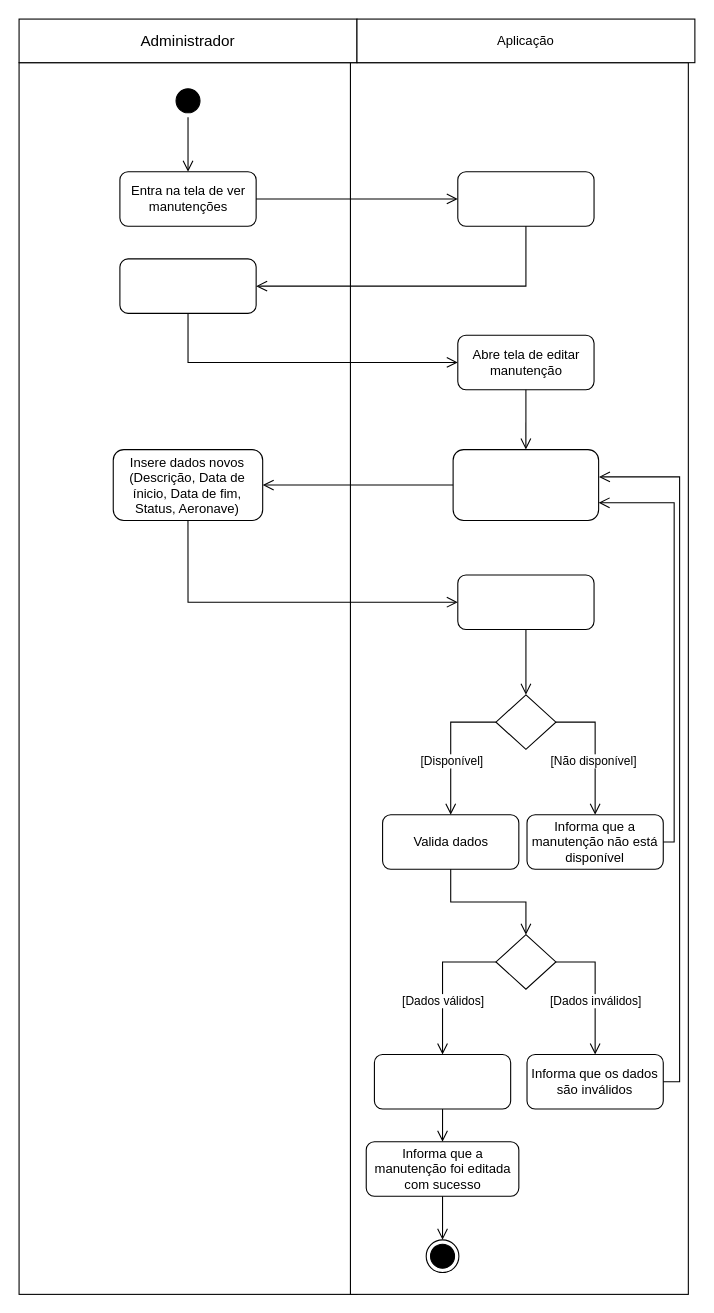
This 714x1313 diagram has some shape labels left out. The shapes that lost their labels are listed below. From the top down, each one's centre as x and y in pixels, then its label:
At (x=525, y=198): "Mostra manutenções".
At (x=187, y=285): "Seleciona editar manutenção".
At (x=525, y=484): "Mostra dados atuais (Descrição, Data de ínicio, Data de fim, Status, Aeronave)".
At (x=525, y=601): "Verifica disponibilidade da manutenção".
At (x=442, y=1081): "Edita manutenção".
